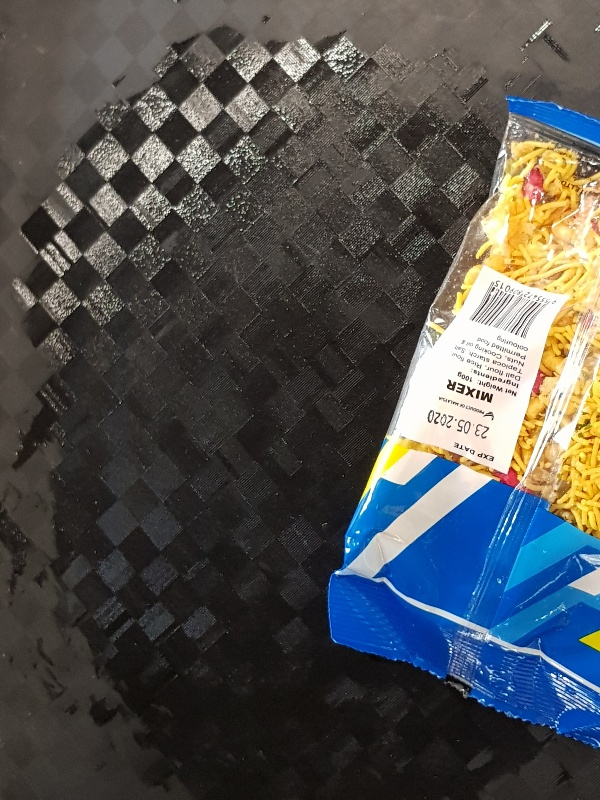Star Tidbits Mixer: (327, 94, 600, 747)
